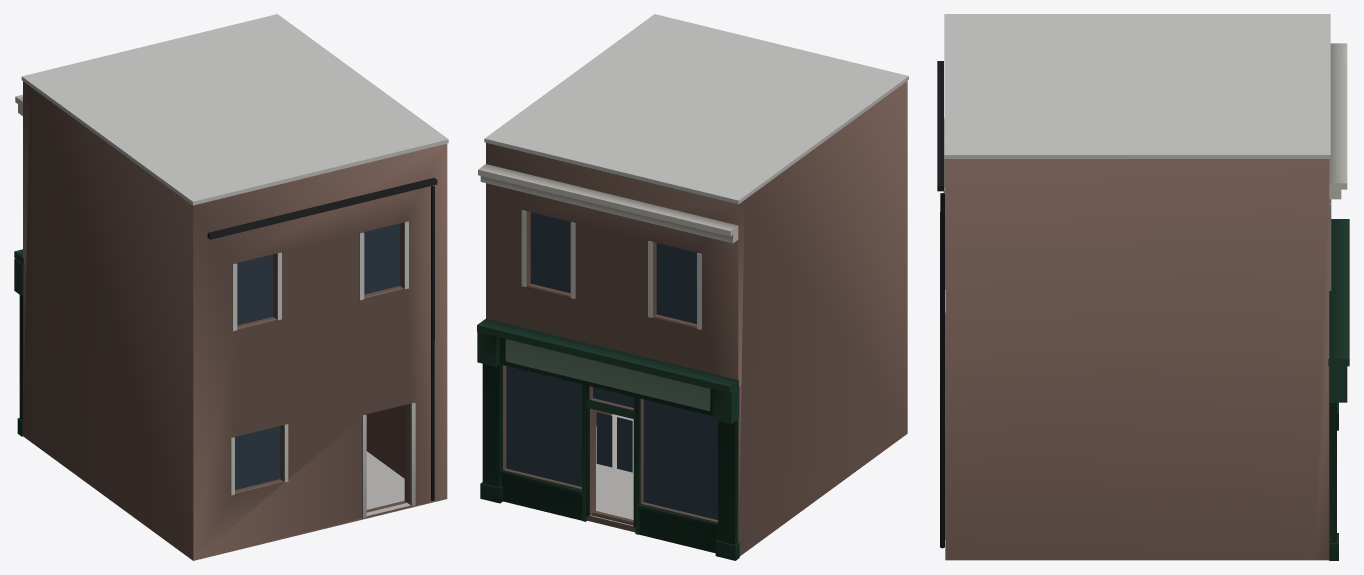
Rendered from bookshop_lod1.glb.
3 views of the same model, side by side, from view 1: azimuth 30°, elevation 25°; view 2: azimuth 150°, elevation 25°; view 3: azimuth 270°, elevation 25° (orthographic). The views are drawn at different scales.
Visible parts, largest first — view 1: bookshop_lod1; view 2: bookshop_lod1; view 3: bookshop_lod1.
Boxes of the visible parts, bbox=[...] form: bookshop_lod1: bbox=[14, 14, 448, 560]; bookshop_lod1: bbox=[477, 14, 908, 560]; bookshop_lod1: bbox=[937, 14, 1349, 560].
Size of the model in its own units: 5.66 by 7.58 by 6.98.
